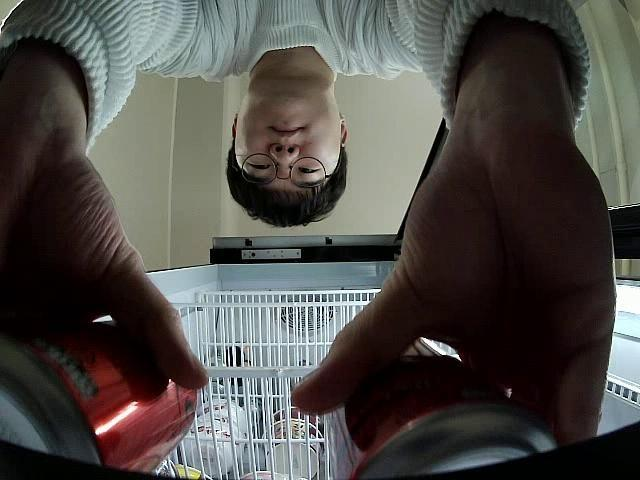11_cocaColaZero: (330, 337, 558, 480), (2, 320, 196, 474)
